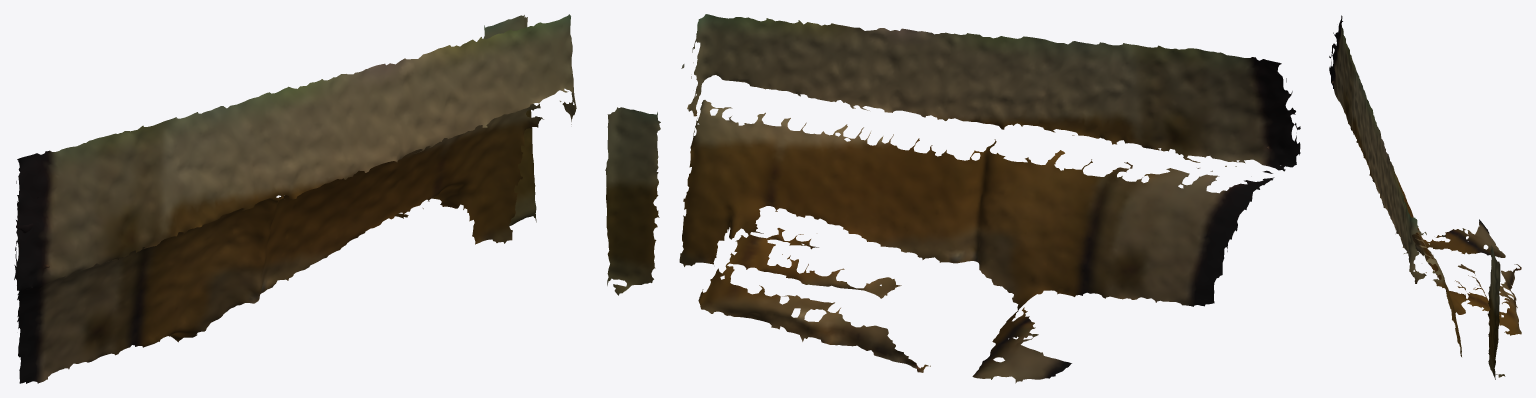
File: final_color_model_20260205_110850.obj
3 views of the same model, side by side, from view 1: azimuth 30°, elevation 25°; view 2: azimuth 150°, elevation 25°; view 3: azimuth 270°, elevation 25° (orthographic). The views are drawn at different scales.
Bounding box in the file's own units: 1.82 × 0.8444 × 0.7906.
